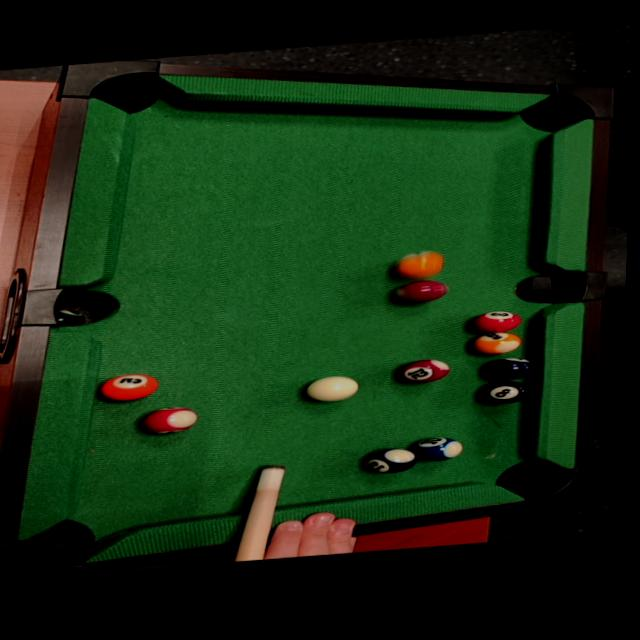cue ball: (301, 372, 361, 404)
other: (136, 404, 200, 438), (97, 371, 162, 404), (388, 246, 445, 282), (358, 445, 420, 476), (388, 278, 449, 307), (477, 354, 534, 383), (396, 356, 451, 385), (466, 330, 519, 359), (476, 379, 535, 405), (413, 433, 466, 461), (467, 308, 522, 334)
